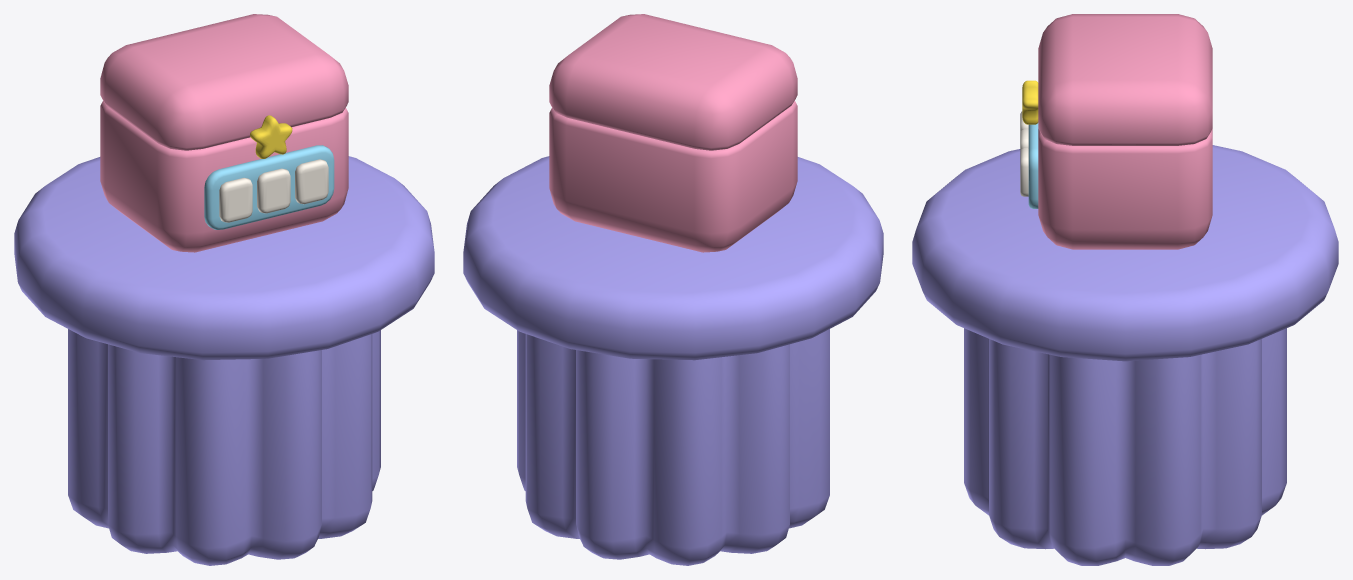
3 views of the same model, side by side, from view 1: azimuth 30°, elevation 25°; view 2: azimuth 150°, elevation 25°; view 3: azimuth 270°, elevation 25° (orthographic).
Parts seen in each view (by area): view 1: BoxStand, BoxLid, Box; view 2: BoxStand, Box, BoxLid; view 3: BoxStand, BoxLid, Box.
Part boxes in pixels (x1=…): BoxStand: x1=14, y1=156, x2=434, y2=565; BoxLid: x1=100, y1=14, x2=348, y2=158; Box: x1=100, y1=101, x2=348, y2=252; BoxStand: x1=463, y1=156, x2=883, y2=565; Box: x1=549, y1=101, x2=797, y2=252; BoxLid: x1=549, y1=14, x2=797, y2=150; BoxStand: x1=912, y1=145, x2=1338, y2=565; BoxLid: x1=1022, y1=14, x2=1212, y2=145; Box: x1=1020, y1=111, x2=1212, y2=249.
Size of the model in its own units: 1.18 by 1.41 by 1.18.
